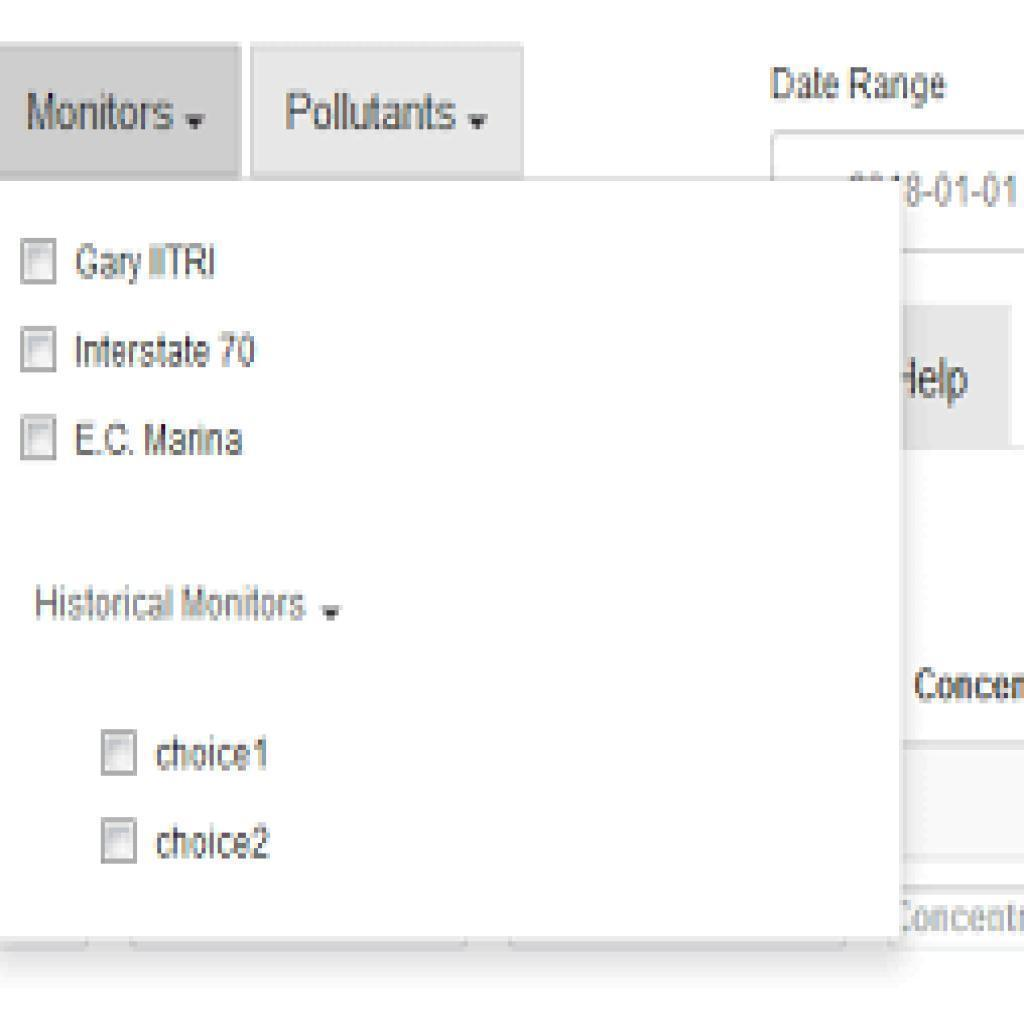checkbox: (20, 237, 57, 286), (19, 326, 56, 373), (100, 730, 138, 775), (101, 818, 138, 864), (20, 416, 57, 460)
dropdown: (247, 44, 526, 179), (0, 41, 243, 179)
label: (70, 416, 246, 464), (73, 330, 258, 374), (70, 239, 221, 288), (151, 820, 275, 868), (154, 736, 274, 776)
